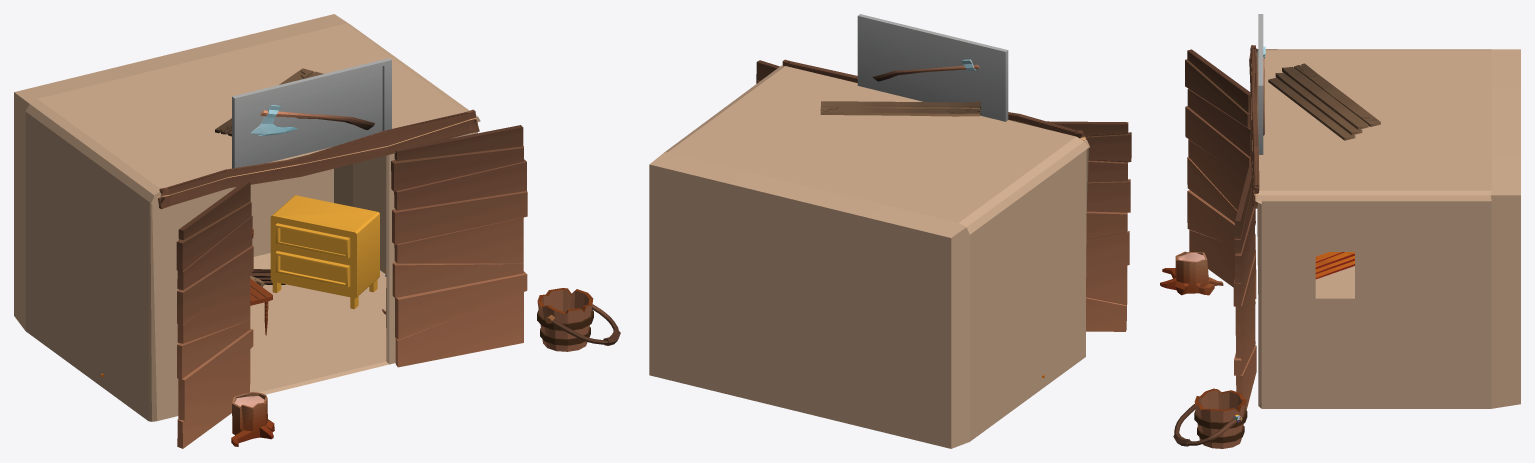
File: bolum__sonu_yeni_.fbx
3 renders of one model, left to right at view 1: azimuth 30°, elevation 25°; view 2: azimuth 150°, elevation 25°; view 3: azimuth 270°, elevation 25°, orthographic. The views are drawn at different scales.
Parts seen in each view (by area): view 1: Cube.002, Cube, Cube.001, pasted__Kutuk_.003, pasted__pCube255, Kova_, pasted__agaç_kökü.001, balt_2_; view 2: Cube.002, Cube.001, Cube, Cube.010, pasted__pCube255, balt_2_; view 3: Cube.002, Cube, Cube.010, Kova_, pasted__agaç_kökü.001, pasted__pCube255, Cube.001, pasted__Kutuk_.003.
Part boxes in pixels (x1=…): Cube.002: x1=14, y1=14, x2=480, y2=421; Cube: x1=176, y1=125, x2=527, y2=448; Cube.001: x1=232, y1=58, x2=391, y2=168; pasted__Kutuk_.003: x1=101, y1=195, x2=386, y2=376; pasted__pCube255: x1=157, y1=109, x2=479, y2=209; Kova_: x1=537, y1=288, x2=620, y2=351; pasted__agaç_kökü.001: x1=231, y1=391, x2=274, y2=446; balt_2_: x1=250, y1=105, x2=374, y2=136; Cube.002: x1=649, y1=65, x2=1089, y2=448; Cube.001: x1=857, y1=14, x2=1008, y2=121; Cube: x1=756, y1=60, x2=1131, y2=331; Cube.010: x1=820, y1=101, x2=980, y2=116; pasted__pCube255: x1=782, y1=59, x2=1086, y2=140; balt_2_: x1=872, y1=59, x2=979, y2=81; Cube.002: x1=1255, y1=48, x2=1520, y2=408; Cube: x1=1185, y1=49, x2=1256, y2=409; Cube.010: x1=1268, y1=63, x2=1380, y2=140; Kova_: x1=1173, y1=388, x2=1247, y2=448; pasted__agaç_kökü.001: x1=1160, y1=251, x2=1223, y2=295; pasted__pCube255: x1=1249, y1=45, x2=1259, y2=208; Cube.001: x1=1258, y1=14, x2=1263, y2=154; pasted__Kutuk_.003: x1=1315, y1=252, x2=1354, y2=279.
Size of the model in its own units: 299477 by 196676 by 225224.
1 material, 1 textured.
